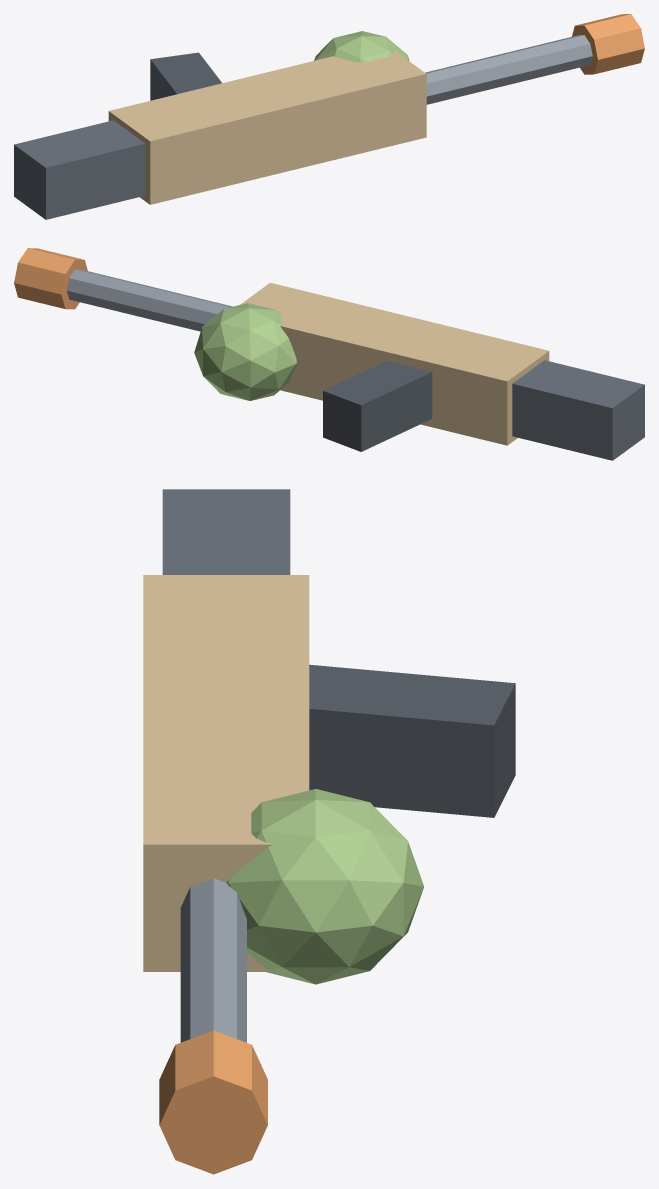
File: pea_popper_lod2.glb
3 views of the same model, one above another, from view 1: azimuth 30°, elevation 25°; view 2: azimuth 150°, elevation 25°; view 3: azimuth 270°, elevation 25° (orthographic). The views are drawn at different scales.
Visible parts, largest first — view 1: receiver, stock, barrel, muzzle, grip, pea_canister; view 2: receiver, stock, pea_canister, grip, barrel, muzzle; view 3: receiver, pea_canister, grip, muzzle, stock, barrel.
Boxes of the visible parts, box(x1,y1,x2,y2) form: receiver: box(108, 50, 426, 204); stock: box(14, 120, 145, 219); barrel: box(425, 35, 592, 104); muzzle: box(572, 14, 644, 74); grip: box(150, 52, 221, 100); pea_canister: box(314, 31, 409, 62); receiver: box(240, 282, 549, 445); stock: box(512, 360, 644, 460); pea_canister: box(194, 303, 297, 400); grip: box(323, 361, 432, 451); barrel: box(66, 269, 232, 331); muzzle: box(14, 248, 87, 309); receiver: box(143, 575, 309, 971); pea_canister: box(227, 789, 424, 984); grip: box(309, 664, 515, 817); muzzle: box(159, 1030, 267, 1174); stock: box(162, 489, 290, 574); barrel: box(180, 878, 246, 1042).
Bounding box in the file's own units: 2.16 × 0.3 × 0.5829.
